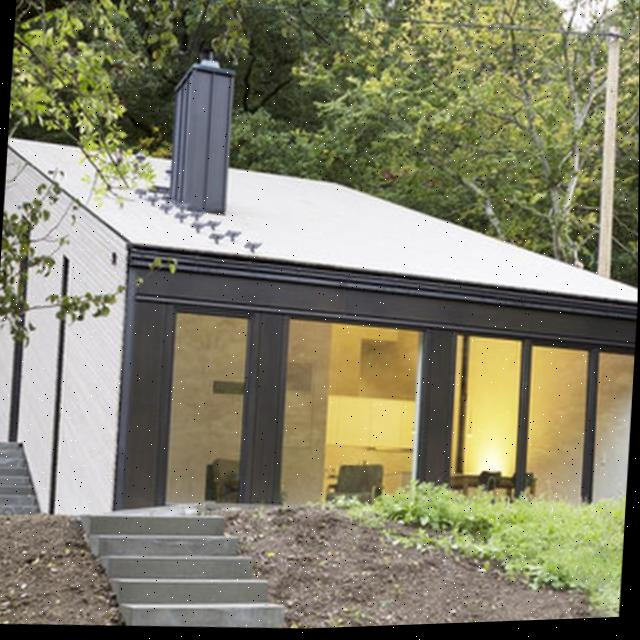building: (0, 106, 639, 539)
